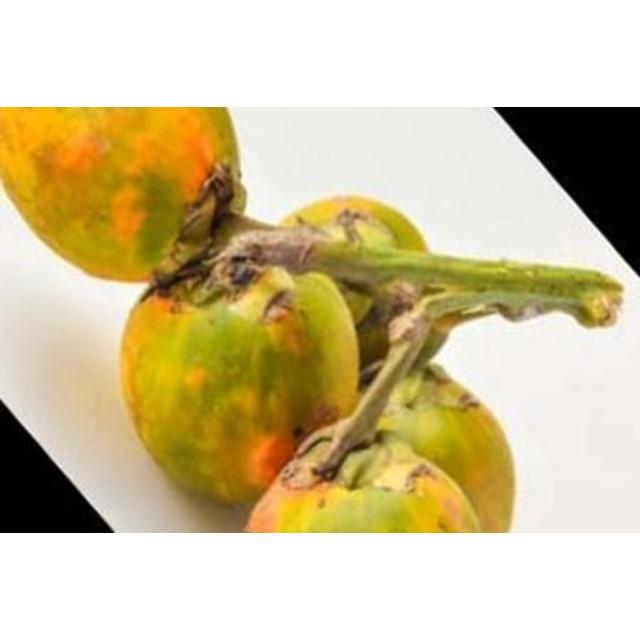good: (101, 258, 352, 490), (250, 356, 540, 534), (268, 165, 470, 362), (0, 107, 244, 235)
